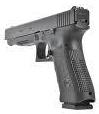gun: (1, 1, 99, 114)
